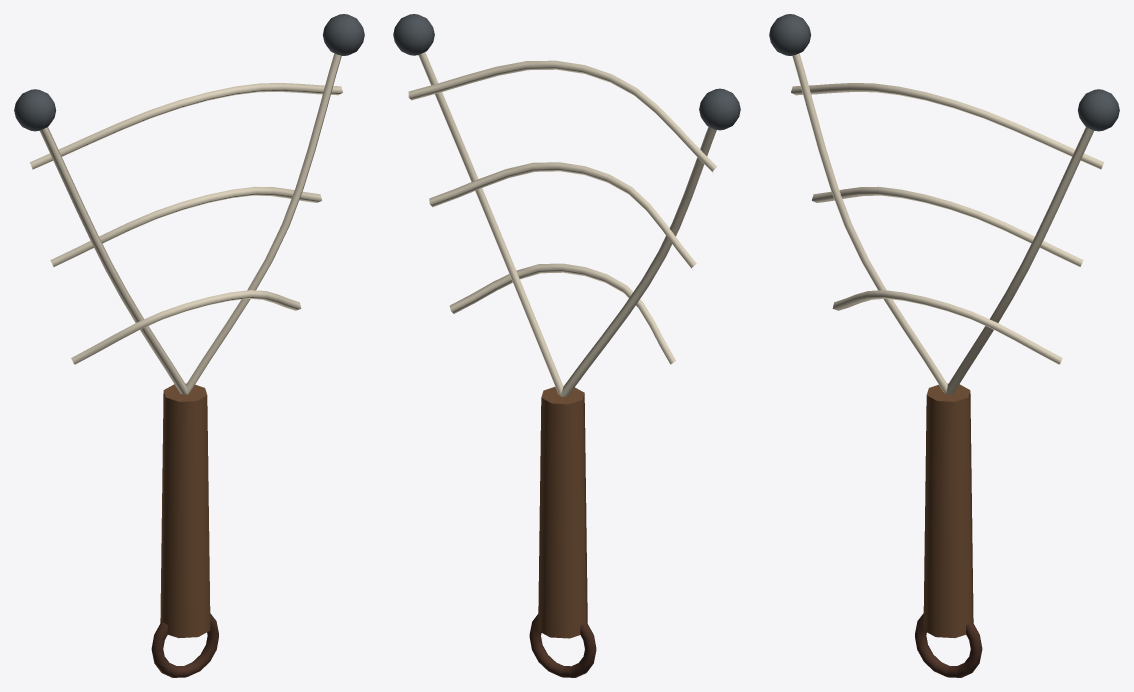
The model's file is net.glb.
3 views of the same model, side by side, from view 1: azimuth 30°, elevation 25°; view 2: azimuth 150°, elevation 25°; view 3: azimuth 330°, elevation 25° (orthographic).
Parts seen in each view (by area): view 1: net-handle, net-mesh-cord (×2), net-mesh-row-3, net-edge-weight (×2), net-mesh-row-2, net-mesh-row-1, net-handle-loop; view 2: net-handle, net-mesh-cord (×2), net-mesh-row-3, net-mesh-row-2, net-edge-weight (×2), net-mesh-row-1, net-handle-loop; view 3: net-handle, net-mesh-cord (×2), net-mesh-row-3, net-edge-weight (×2), net-mesh-row-2, net-mesh-row-1, net-handle-loop.
Boxes of the visible parts, left/top/right/bottom form: net-handle: left=160, top=383, right=210, bottom=637; net-mesh-cord (×2): left=40, top=53, right=341, bottom=394; net-mesh-row-3: left=30, top=83, right=342, bottom=169; net-edge-weight (×2): left=14, top=14, right=364, bottom=131; net-mesh-row-2: left=50, top=186, right=321, bottom=266; net-mesh-row-1: left=71, top=290, right=301, bottom=364; net-handle-loop: left=151, top=613, right=218, bottom=677; net-handle: left=538, top=387, right=587, bottom=638; net-mesh-cord (×2): left=418, top=52, right=716, bottom=396; net-mesh-row-3: left=408, top=60, right=716, bottom=173; net-mesh-row-2: left=429, top=162, right=696, bottom=269; net-edge-weight (×2): left=393, top=14, right=740, bottom=130; net-mesh-row-1: left=449, top=263, right=675, bottom=364; net-handle-loop: left=529, top=614, right=596, bottom=677; net-handle: left=923, top=383, right=973, bottom=637; net-mesh-cord (×2): left=792, top=53, right=1093, bottom=394; net-mesh-row-3: left=791, top=83, right=1103, bottom=169; net-edge-weight (×2): left=769, top=14, right=1119, bottom=131; net-mesh-row-2: left=812, top=186, right=1083, bottom=266; net-mesh-row-1: left=832, top=290, right=1062, bottom=364; net-handle-loop: left=915, top=613, right=982, bottom=677.
Bounding box in the file's own units: 0.1913 × 0.3321 × 0.0365.
